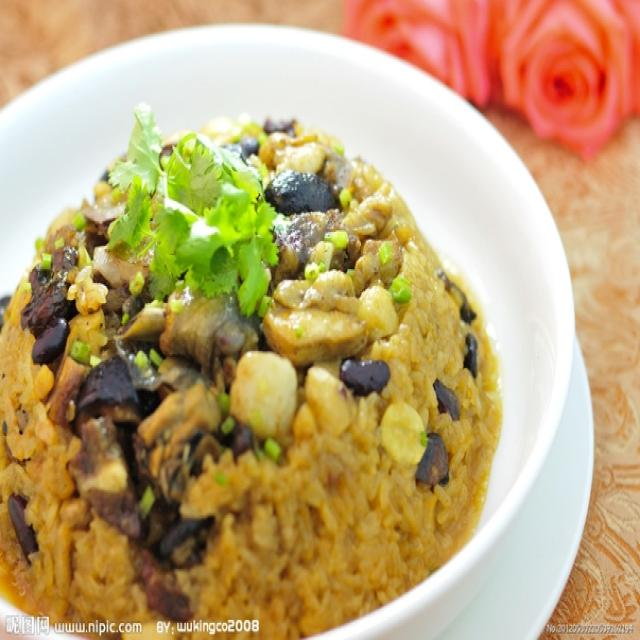米饭主食: (3, 71, 541, 626)
